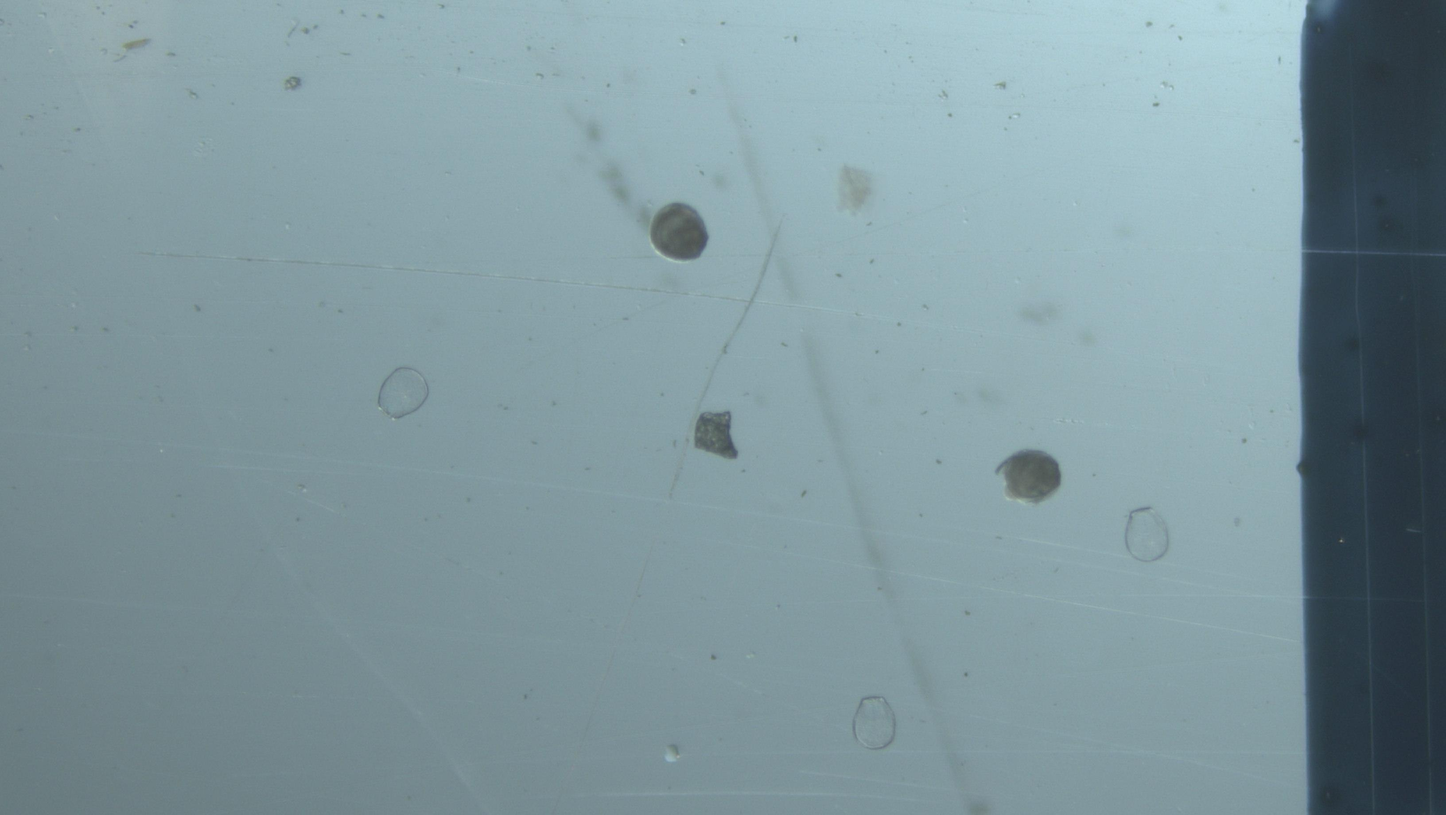dead: (377, 367, 429, 419), (1124, 507, 1169, 562), (854, 697, 895, 749)
live: (997, 450, 1062, 505), (650, 203, 709, 261)
